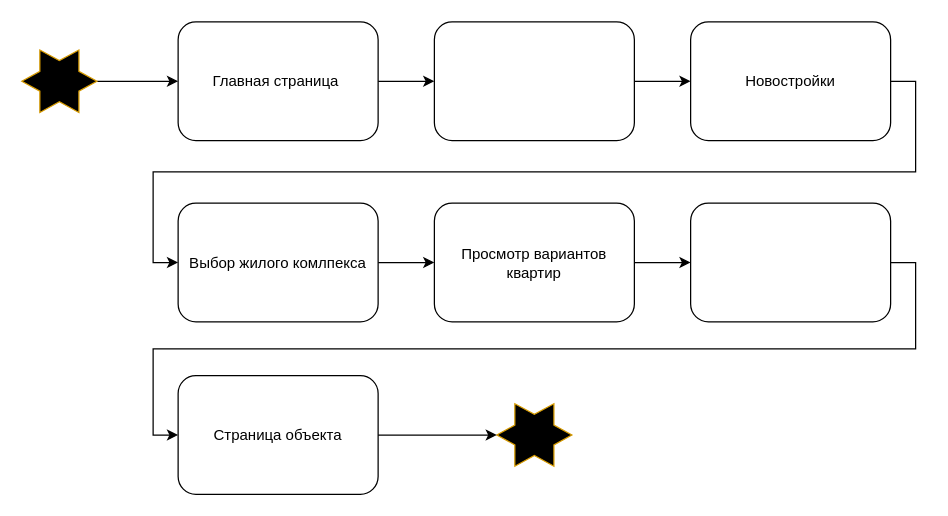
Some shapes in this 948 by 516 pixel diagram are drawn without their labels. Here are the shapes that lost their labels. From the top down, the box of each, then its label:
(433, 21, 634, 141): Продажа
(689, 202, 891, 322): Выбор квартиры
